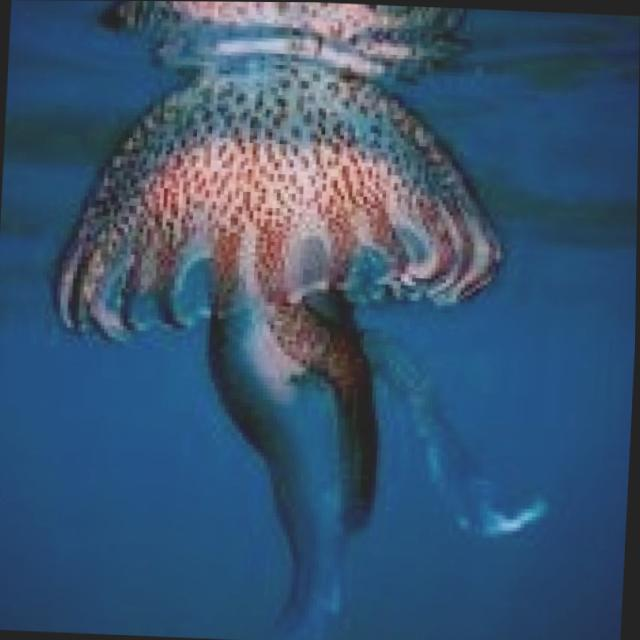Moon-jellyfish: (34, 0, 575, 640)
